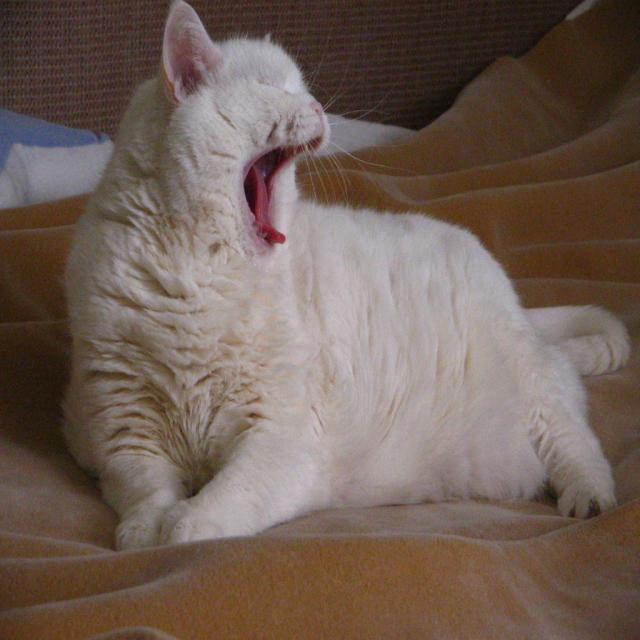Cat: (58, 0, 636, 548)
